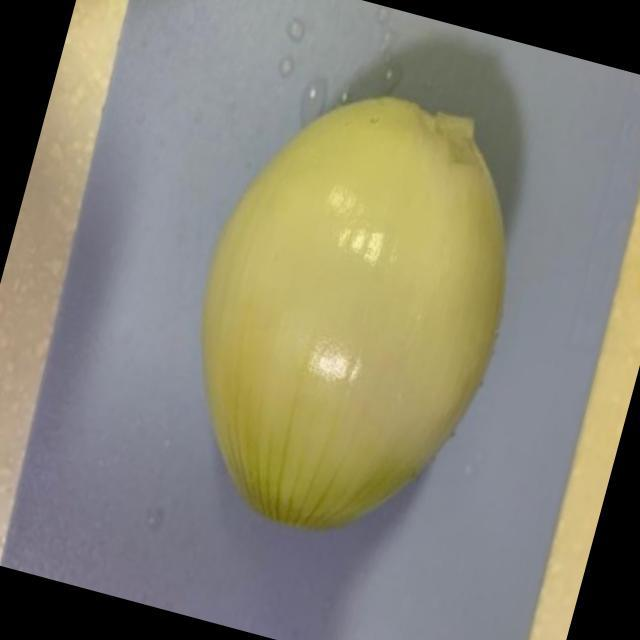Onion: (202, 99, 503, 520)
